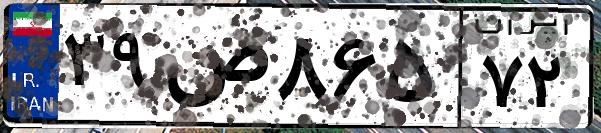2: (525, 38, 570, 115)
3: (57, 26, 110, 100)
5: (385, 28, 445, 110)
6: (330, 28, 385, 110)
7: (475, 38, 525, 113)
8: (270, 28, 330, 110)
9: (110, 28, 158, 98)
ص: (158, 20, 270, 120)
